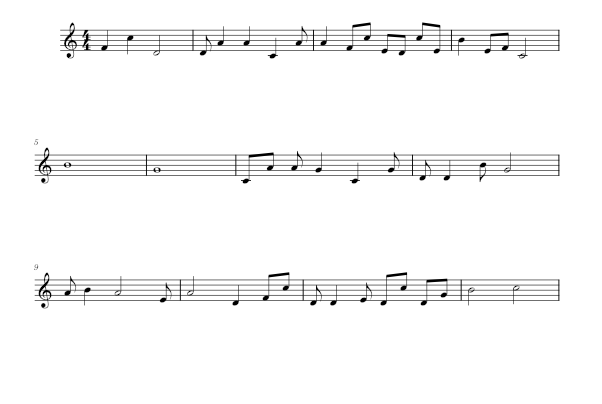Treble Clef: (35, 144, 55, 186), (35, 270, 55, 311), (60, 18, 79, 61)
